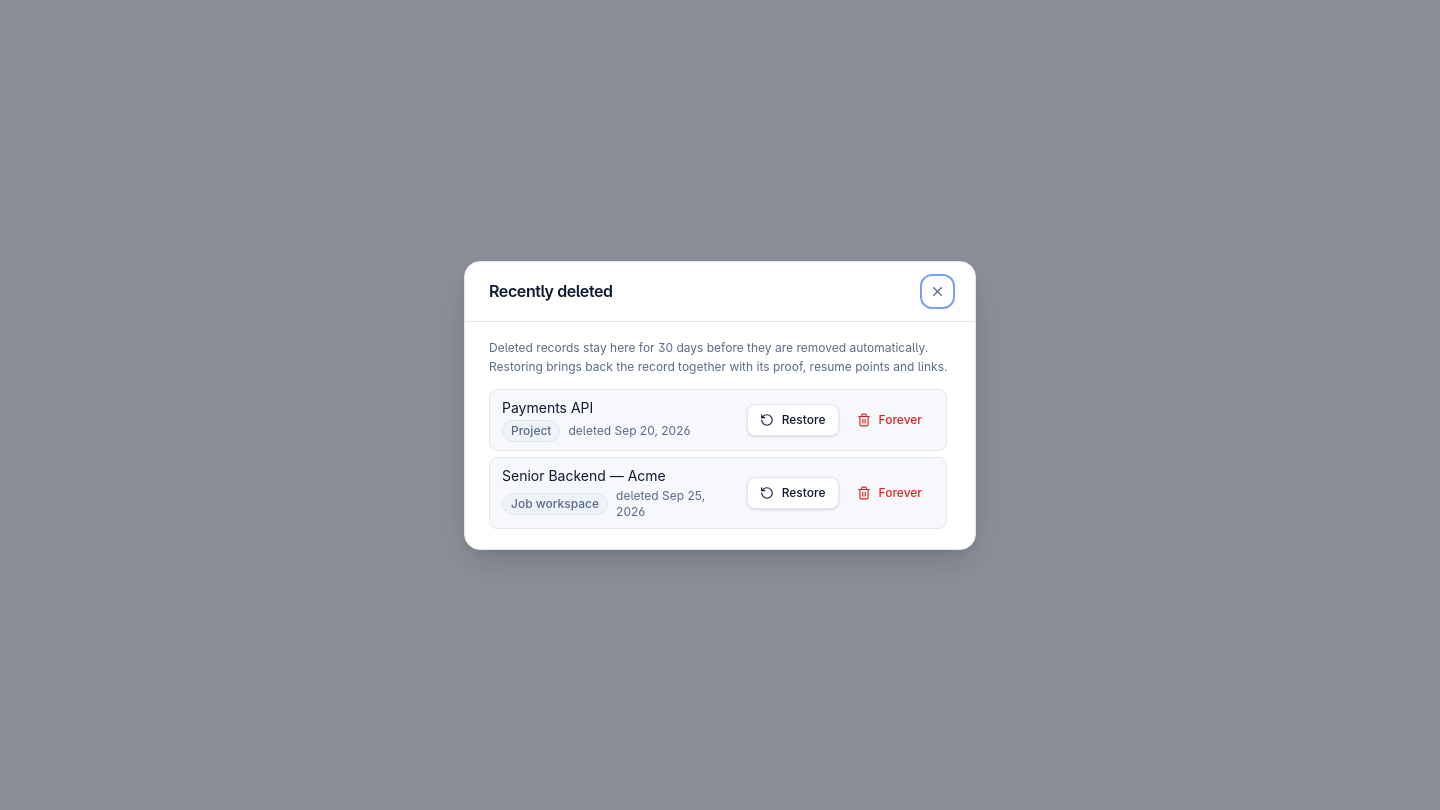
Scenario: TrashDialog › restores a record and drops it from the list
This screenshot has width=1440, height=810.
Click the button "Restore" in the row of "Payments API" at (793, 420), box [747, 404, 838, 436]
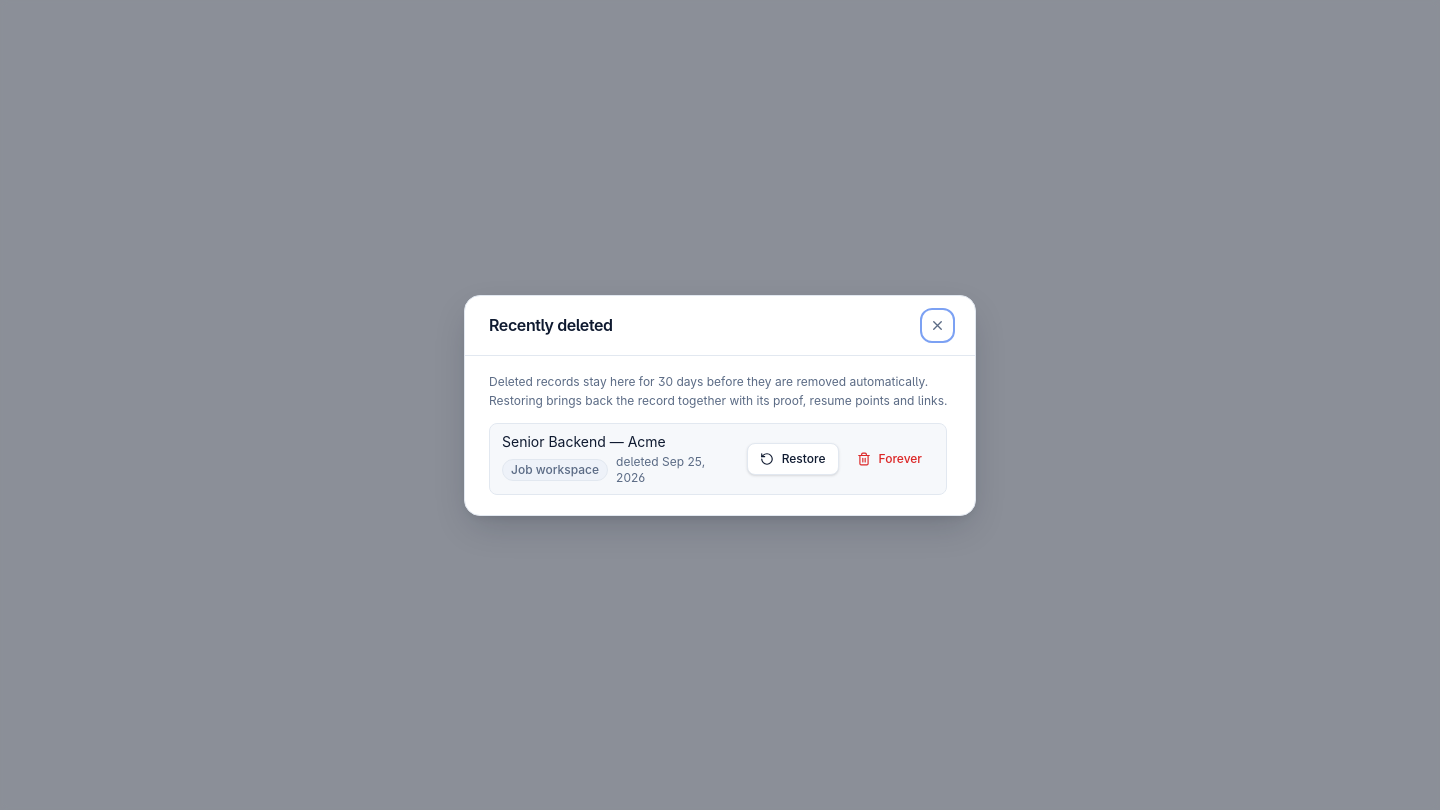
Check: the text "Payments API" is gone
